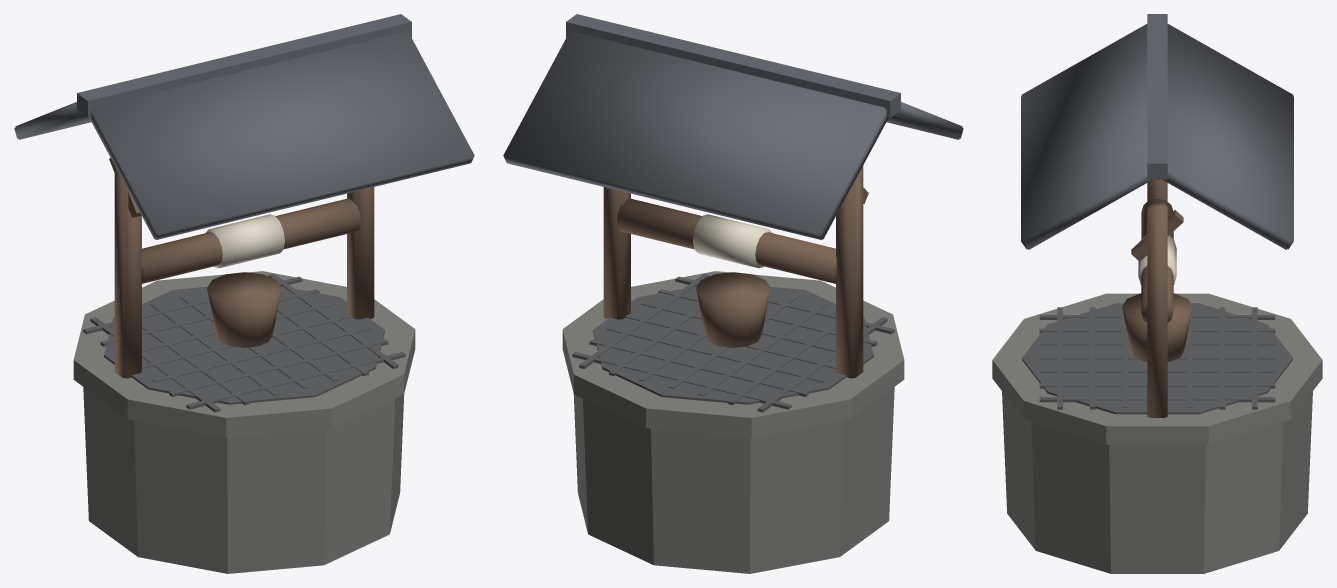
File: medieval_well.glb
3 views of the same model, side by side, from view 1: azimuth 30°, elevation 25°; view 2: azimuth 150°, elevation 25°; view 3: azimuth 270°, elevation 25° (orthographic). The views are drawn at different scales.
Parts seen in each view (by area): view 1: RoofSlopeS, WellShaft, WellCoping, WellGrateRim, RidgeCap, WinchDrum, Post_-0.86, WellBucket, Post_0.86, WinchRope, RoofSlopeN, GrateA_-3 (+8 smaller); view 2: RoofSlopeN, WellShaft, WellCoping, WellGrateRim, RidgeCap, WinchDrum, Post_-0.86, WellBucket, Post_0.86, WinchRope, RoofSlopeS, GrateA_3 (+8 smaller); view 3: WellShaft, RoofSlopeN, RoofSlopeS, WellCoping, WellGrateRim, Post_0.86, RidgeCap, WellBucket, WinchDrum, GrateB_3, GrateB_1, GrateB_2 (+12 smaller).
Part boxes in pixels (x1=…): RoofSlopeS: x1=89, y1=31, x2=474, y2=239; WellShaft: x1=83, y1=387, x2=404, y2=573; WellCoping: x1=73, y1=271, x2=415, y2=437; WellGrateRim: x1=104, y1=286, x2=384, y2=404; RidgeCap: x1=77, y1=14, x2=411, y2=117; WinchDrum: x1=141, y1=198, x2=360, y2=283; Post_-0.86: x1=114, y1=166, x2=141, y2=378; WellBucket: x1=207, y1=272, x2=281, y2=347; Post_0.86: x1=347, y1=187, x2=374, y2=319; WinchRope: x1=206, y1=214, x2=284, y2=268; RoofSlopeN: x1=14, y1=102, x2=91, y2=139; GrateA_-3: x1=186, y1=352, x2=405, y2=409; RoofSlopeN: x1=503, y1=31, x2=888, y2=239; WellShaft: x1=573, y1=387, x2=894, y2=573; WellCoping: x1=562, y1=271, x2=904, y2=437; WellGrateRim: x1=593, y1=286, x2=873, y2=404; RidgeCap: x1=566, y1=14, x2=900, y2=117; WinchDrum: x1=617, y1=198, x2=836, y2=283; Post_-0.86: x1=836, y1=166, x2=863, y2=378; WellBucket: x1=696, y1=272, x2=770, y2=347; Post_0.86: x1=603, y1=187, x2=630, y2=319; WinchRope: x1=693, y1=214, x2=771, y2=268; RoofSlopeS: x1=886, y1=102, x2=963, y2=139; GrateA_3: x1=572, y1=352, x2=791, y2=409; WellShaft: x1=1002, y1=391, x2=1312, y2=573; RoofSlopeN: x1=1162, y1=24, x2=1293, y2=249; RoofSlopeS: x1=1021, y1=24, x2=1152, y2=249; WellCoping: x1=992, y1=293, x2=1322, y2=444; WellGrateRim: x1=1022, y1=303, x2=1292, y2=414; Post_0.86: x1=1147, y1=202, x2=1167, y2=417; RidgeCap: x1=1147, y1=14, x2=1167, y2=179; WellBucket: x1=1122, y1=293, x2=1192, y2=361; WinchDrum: x1=1141, y1=198, x2=1173, y2=322; GrateB_3: x1=1039, y1=397, x2=1275, y2=402; GrateB_1: x1=1039, y1=369, x2=1275, y2=372; GrateB_2: x1=1039, y1=383, x2=1275, y2=388.
Bounding box in the file's own units: 2.4 × 3.18 × 2.24.
